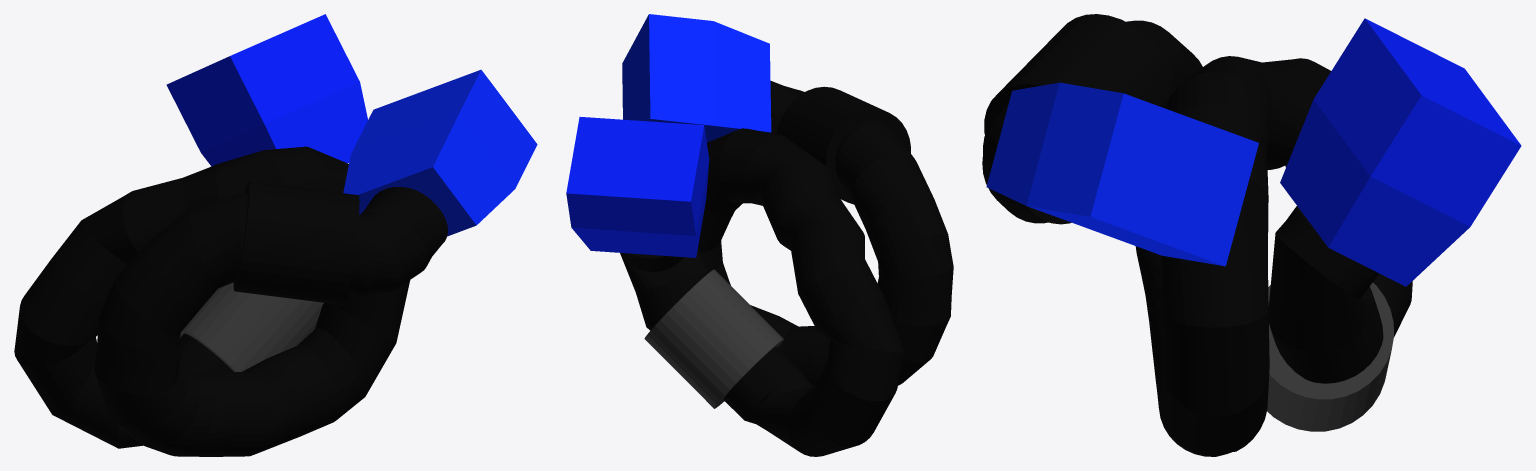
The model's file is cabo de video.fbx.
The picture shows the model from 3 angles, left to right: view 1: azimuth 30°, elevation 25°; view 2: azimuth 150°, elevation 25°; view 3: azimuth 270°, elevation 25°; orthographic projection. The views are drawn at different scales.
Parts seen in each view (by area): view 1: Cylinder, Cube.002, Cube.001, Cylinder.002, Cylinder.001; view 2: Cylinder, Cube.002, Cube.001, Cylinder.001, Cylinder.002; view 3: Cylinder, Cube.002, Cube.001, Cylinder.002, Cylinder.001.
Boxes of the visible parts, x1,y1,x2,y2 form: Cylinder: (14, 146, 447, 456); Cube.002: (166, 14, 367, 166); Cube.001: (343, 69, 537, 236); Cylinder.002: (233, 181, 359, 305); Cylinder.001: (180, 282, 322, 372); Cylinder: (620, 81, 953, 456); Cube.002: (566, 117, 709, 257); Cube.001: (622, 14, 771, 142); Cylinder.001: (644, 269, 783, 408); Cylinder.002: (776, 86, 910, 204); Cylinder: (982, 20, 1412, 456); Cube.002: (1280, 18, 1521, 286); Cube.001: (986, 82, 1258, 266); Cylinder.002: (984, 14, 1176, 134); Cylinder.001: (1267, 282, 1393, 431).
Bounding box in the file's own units: 1124 × 958 × 998.
